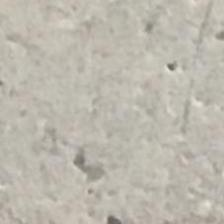Non_Crack: (49, 4, 216, 206)
